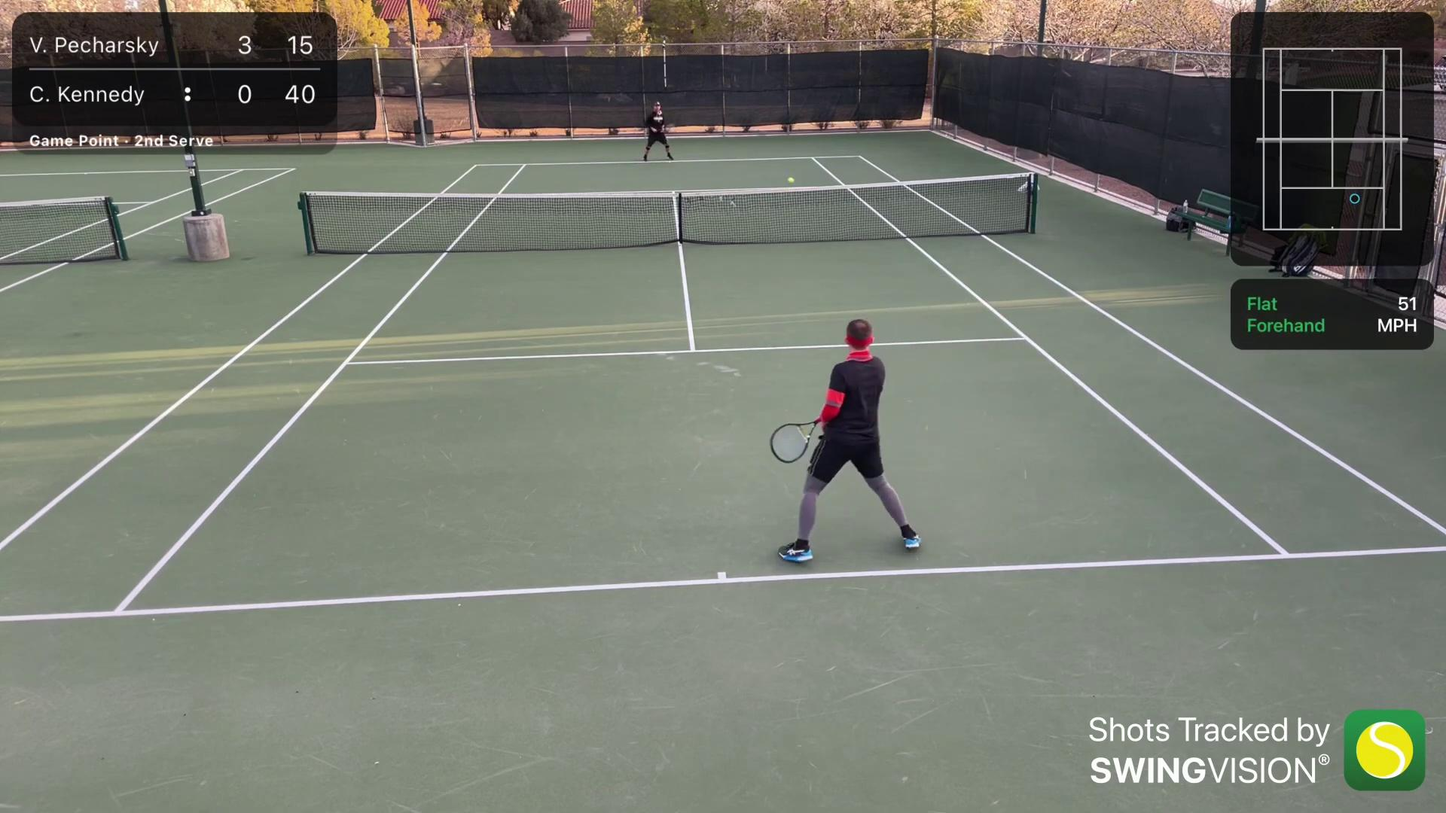ball: (785, 175, 797, 185)
